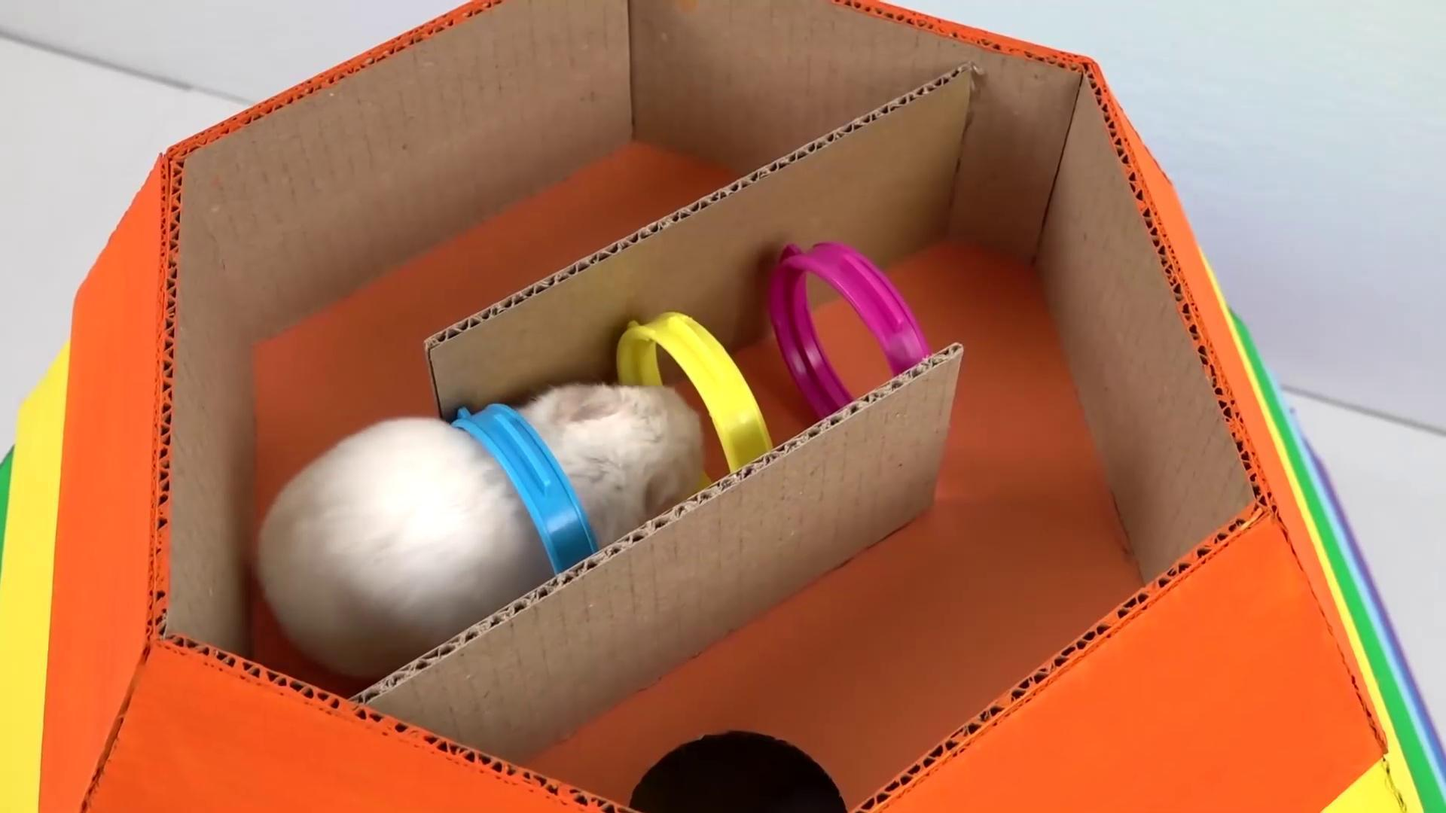rat: (258, 385, 709, 676)
